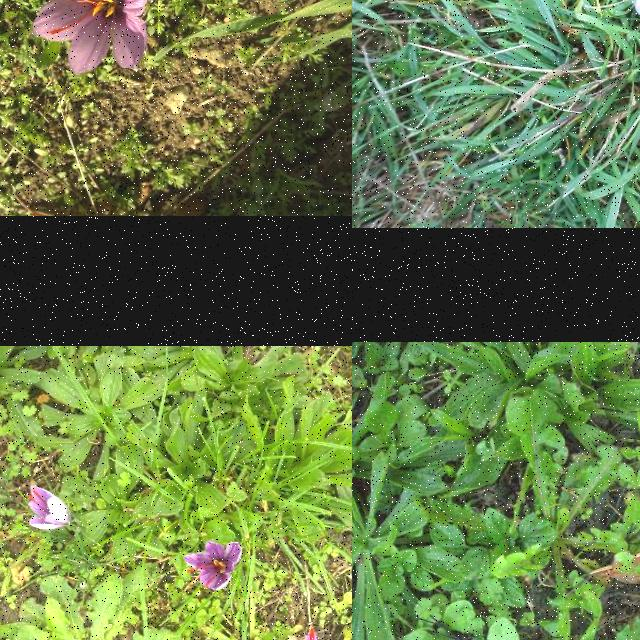flower: (32, 0, 148, 75), (183, 542, 243, 592), (28, 486, 68, 530), (634, 0, 640, 21)
